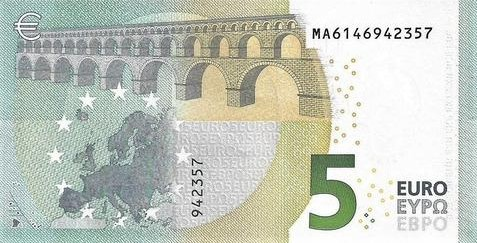euro_banknote: (1, 1, 477, 243)
